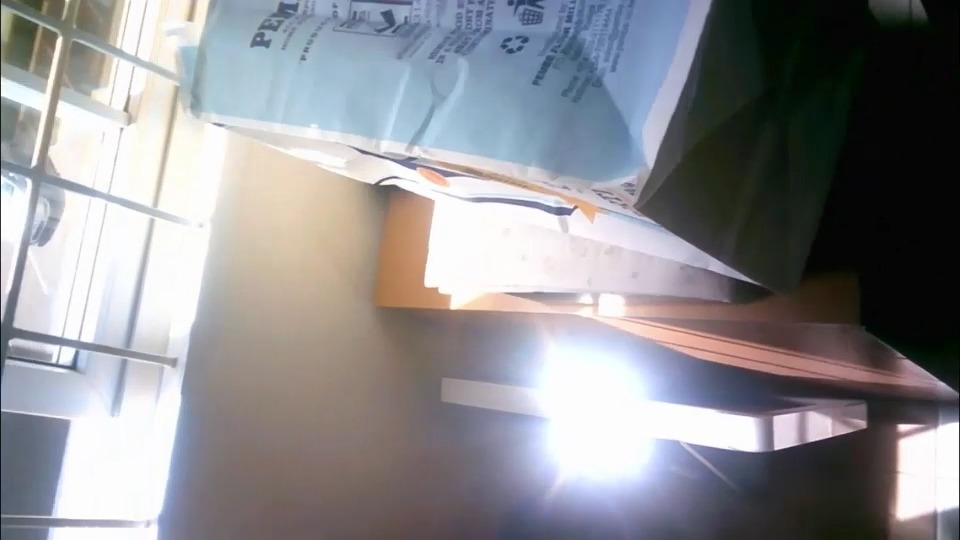wheat_flour_blue_label: (184, 0, 867, 295)
